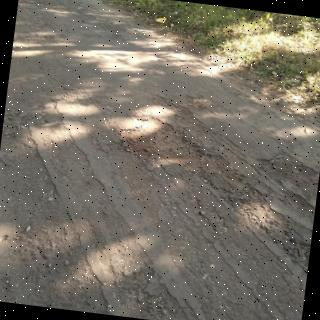pothole: (119, 110, 210, 171)
